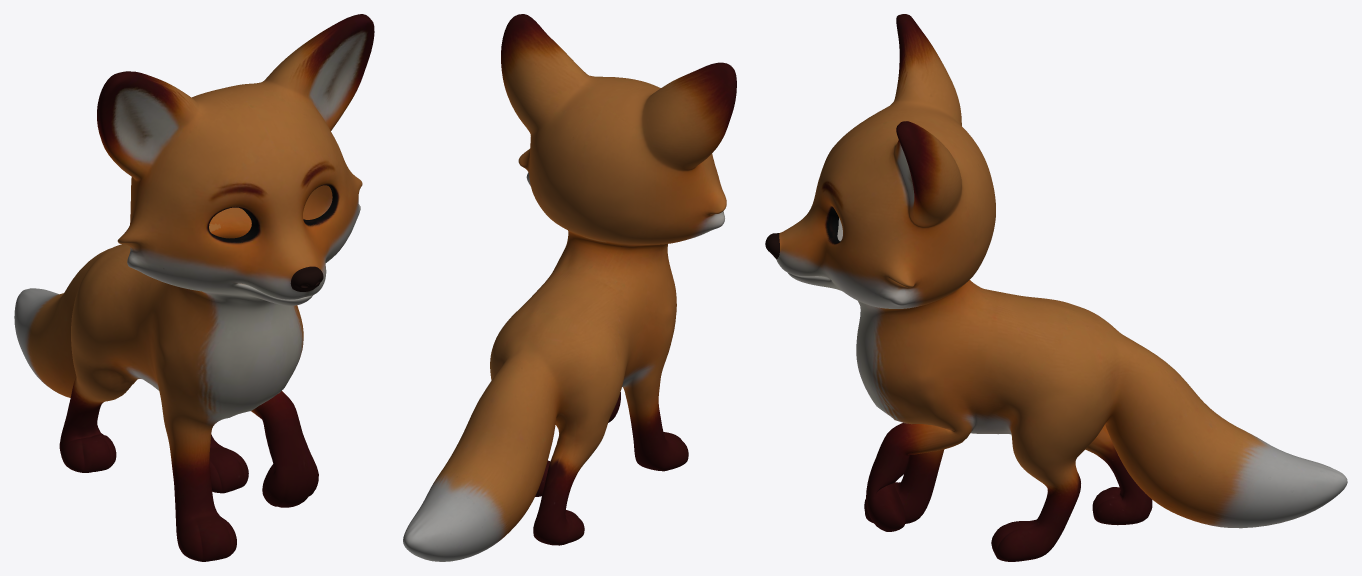
Rendered from Zorro.fbx.
The picture shows the model from 3 angles, left to right: view 1: azimuth 30°, elevation 25°; view 2: azimuth 150°, elevation 25°; view 3: azimuth 270°, elevation 25°; orthographic projection. The views are drawn at different scales.
Parts seen in each view (by area): view 1: Plane; view 2: Plane; view 3: Plane.
Part boxes in pixels (bbox=[...]): Plane: bbox=[14, 14, 374, 561]; Plane: bbox=[403, 14, 736, 561]; Plane: bbox=[765, 14, 1347, 561].
Size of the model in its own units: 0.5176 by 0.8965 by 1.01.
2 materials, 1 textured.
